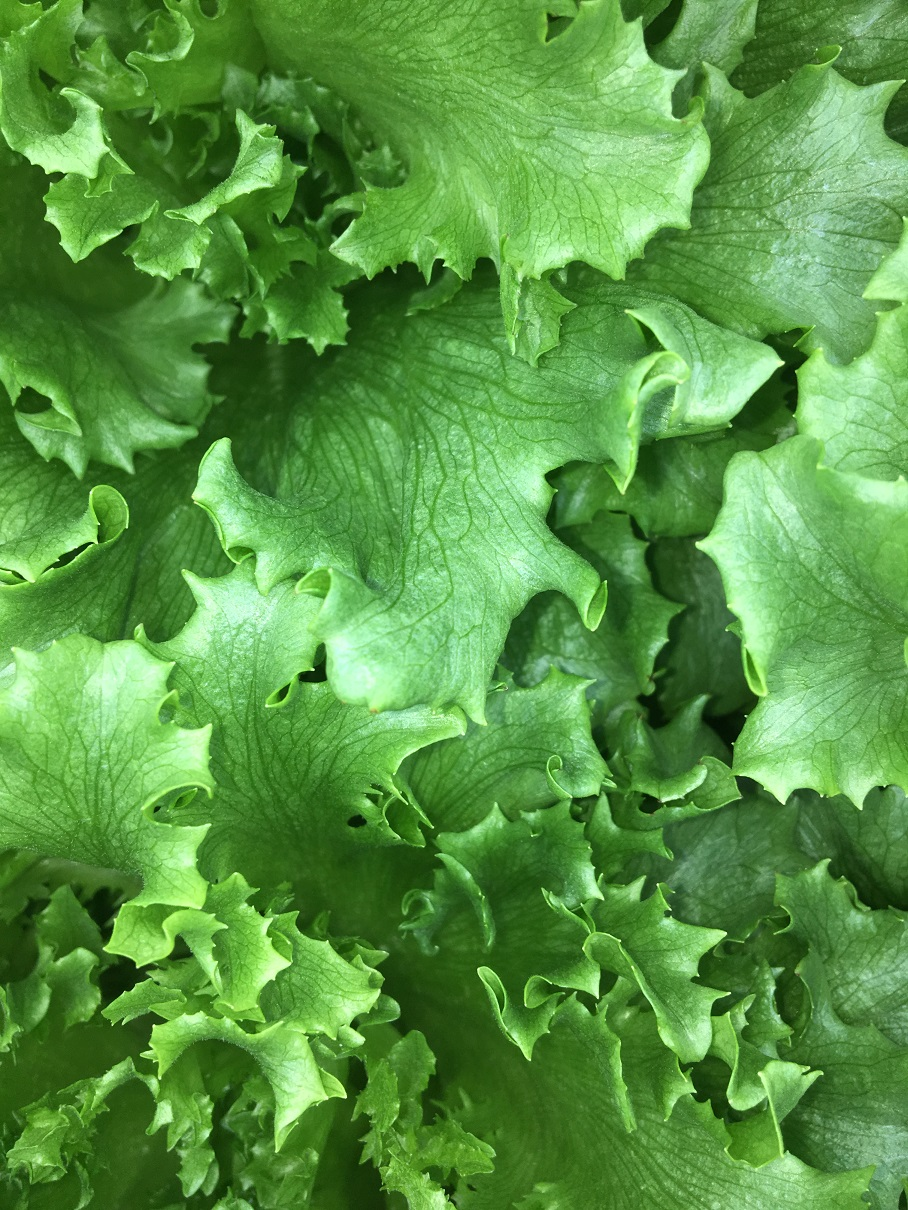tipburn: (354, 686, 397, 726), (324, 672, 360, 716), (184, 482, 226, 516), (691, 748, 725, 775)
